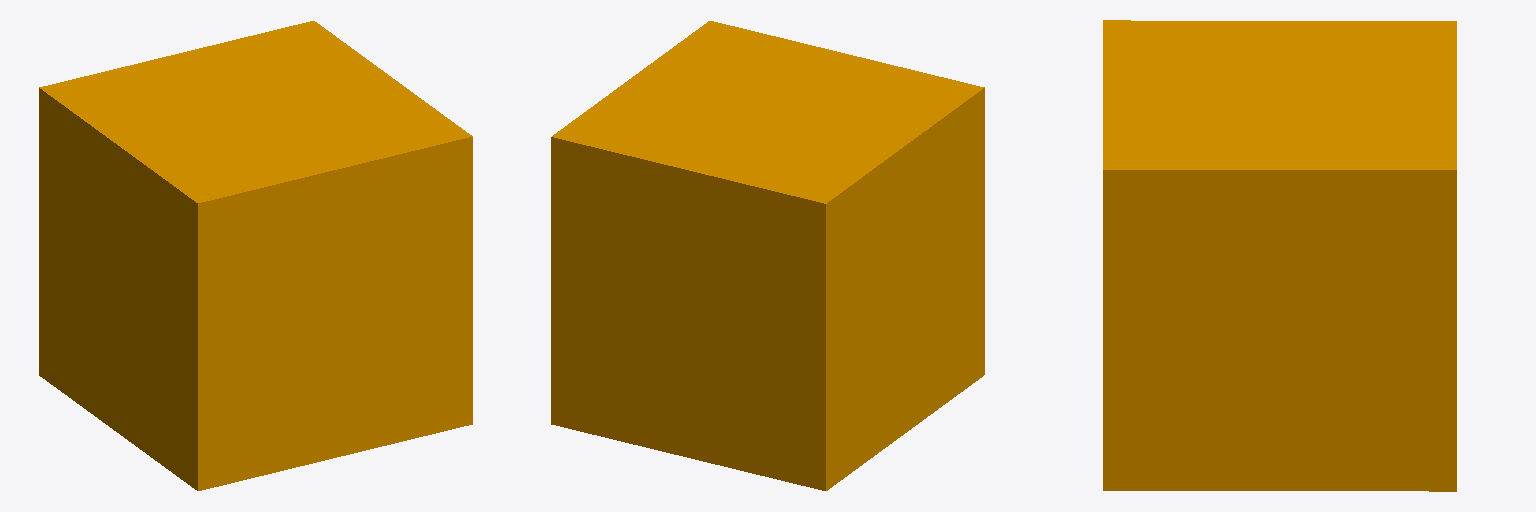
The robot description file, URDF, robot "ar_marker":
<?xml version="1.0"?>
<robot name="ar_marker">
  <link name="marker_box">
	<inertial>
      <origin xyz="0 0 0" />
      <mass value="1.0" />
      <inertia  ixx="1.0" ixy="0.0"  ixz="0.0"  iyy="1.0"  iyz="0.0"  izz="1.0" />
    </inertial>
    <visual>
      <origin xyz="0 0 0" rpy="1.57 0 0" />
      <geometry>
		<mesh filename="package://pr2_practice_gazebo/models/meshes/ar_marker.dae"
			  scale="0.080 0.080 0.080"/>
      </geometry>
    </visual>
    <collision>
      <origin xyz="0 0 0" rpy="1.57 0 0" />
      <geometry>
		<mesh filename="package://pr2_practice_gazebo/models/meshes/ar_marker.dae"
			  scale="0.080 0.080 0.080"/>
      </geometry>
    </collision>
  </link>
</robot>

--- What the picture shows (computed from the rendered views, not written in the file) ---
The picture shows the robot from 3 angles, left to right: view 1: azimuth 30°, elevation 25°; view 2: azimuth 150°, elevation 25°; view 3: azimuth 270°, elevation 25°; orthographic projection.
Model ar_marker with 1 links and 0 joints (none), rooted at marker_box, posed every joint at zero.
Links seen in each view (by area): view 1: marker_box; view 2: marker_box; view 3: marker_box.
Link boxes in pixels (box(x1,y1,x2,y2)): marker_box: box(39, 21, 472, 490); marker_box: box(551, 21, 984, 490); marker_box: box(1103, 20, 1456, 491).
Size in the robot's own frame: 0.08 by 0.0801 by 0.0801 metres.
1 mesh visuals loaded from 1 distinct referenced files (1 Collada DAE).